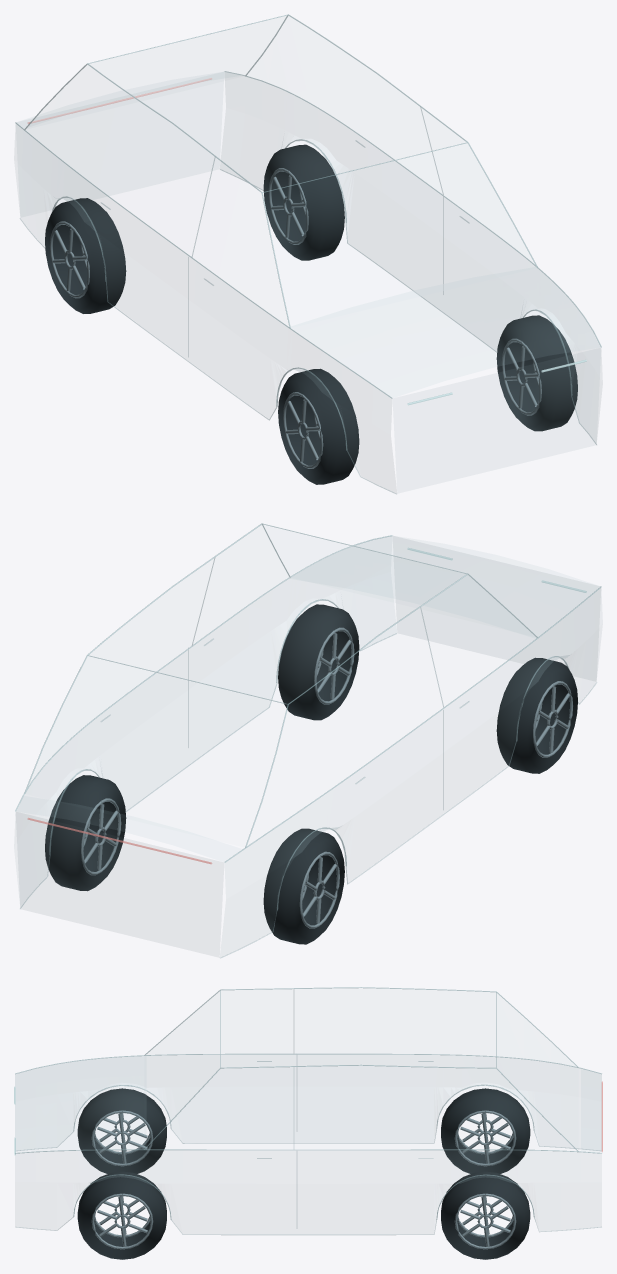
Rendered from hyundai_ioniq9.glb.
3 renders of one model, top to bottom at view 1: azimuth 30°, elevation 25°; view 2: azimuth 150°, elevation 25°; view 3: azimuth 270°, elevation 25°, orthographic. The views are drawn at different scales.
Visible parts, largest first — view 1: shell_body, shell_tyre_right_rear, shell_tyre_right_front, shell_tyre_left_rear, shell_tyre_left_front, shell_contours, shell_details, shell_rim_left_rear, shell_rim_left_front, shell_rim_right_rear, shell_rim_right_front; view 2: shell_body, shell_tyre_right_rear, shell_tyre_left_front, shell_tyre_right_front, shell_tyre_left_rear, shell_contours, shell_details, shell_rim_right_rear, shell_rim_left_front, shell_rim_left_rear, shell_rim_right_front; view 3: shell_body, shell_contours, shell_tyre_left_rear, shell_tyre_left_front, shell_tyre_right_front, shell_tyre_right_rear, shell_rim_right_rear, shell_rim_left_rear, shell_rim_left_front, shell_rim_right_front, shell_details.
Boxes of the visible parts, box(x1,y1,x2,y2) form: shell_body: box(16, 72, 600, 446); shell_tyre_right_rear: box(45, 198, 126, 313); shell_tyre_right_front: box(278, 368, 359, 484); shell_tyre_left_rear: box(263, 144, 344, 260); shell_tyre_left_front: box(496, 315, 577, 431); shell_contours: box(15, 14, 601, 450); shell_details: box(20, 106, 596, 494); shell_rim_left_rear: box(268, 168, 308, 244); shell_rim_left_front: box(501, 338, 541, 415); shell_rim_right_rear: box(49, 221, 89, 298); shell_rim_right_front: box(283, 392, 323, 468); shell_body: box(16, 536, 600, 907); shell_tyre_right_rear: box(263, 828, 344, 944); shell_tyre_left_front: box(278, 604, 359, 720); shell_tyre_right_front: box(496, 657, 577, 773); shell_tyre_left_rear: box(45, 775, 126, 891); shell_contours: box(15, 523, 601, 910); shell_details: box(20, 557, 596, 958); shell_rim_right_rear: box(299, 851, 339, 928); shell_rim_left_front: box(314, 627, 354, 704); shell_rim_left_rear: box(81, 798, 121, 875); shell_rim_right_front: box(533, 681, 572, 757); shell_body: box(15, 1056, 601, 1185); shell_contours: box(15, 987, 601, 1219); shell_tyre_left_rear: box(441, 1171, 530, 1259); shell_tyre_left_front: box(77, 1171, 166, 1259); shell_tyre_right_front: box(77, 1088, 166, 1173); shell_tyre_right_rear: box(441, 1088, 530, 1173); shell_rim_right_rear: box(454, 1110, 516, 1166); shell_rim_left_rear: box(454, 1193, 516, 1249); shell_rim_left_front: box(91, 1193, 153, 1249); shell_rim_right_front: box(91, 1110, 153, 1166); shell_details: box(15, 1061, 601, 1234).
Bounding box in the file's own units: 1.99 × 1.79 × 5.08.
